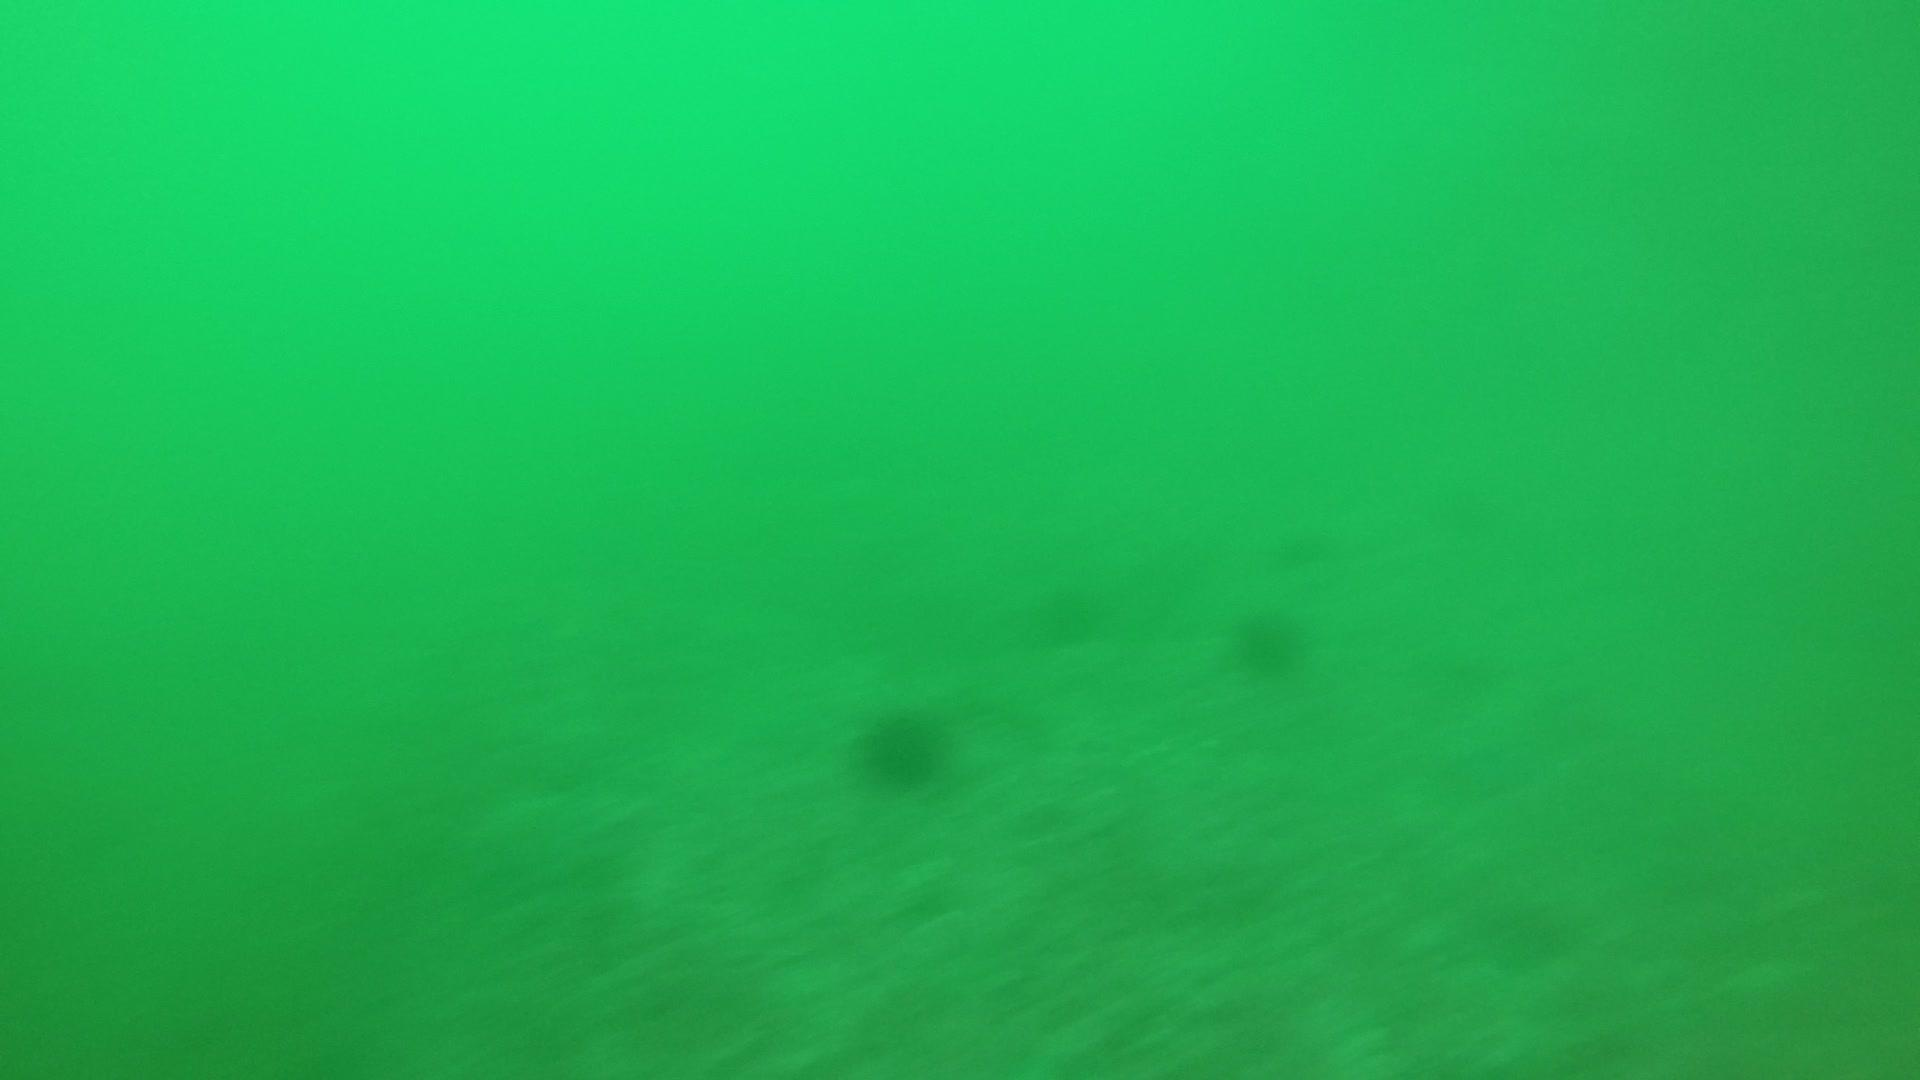echinus: (851, 699, 955, 793), (1225, 600, 1313, 680), (1029, 574, 1112, 649)
